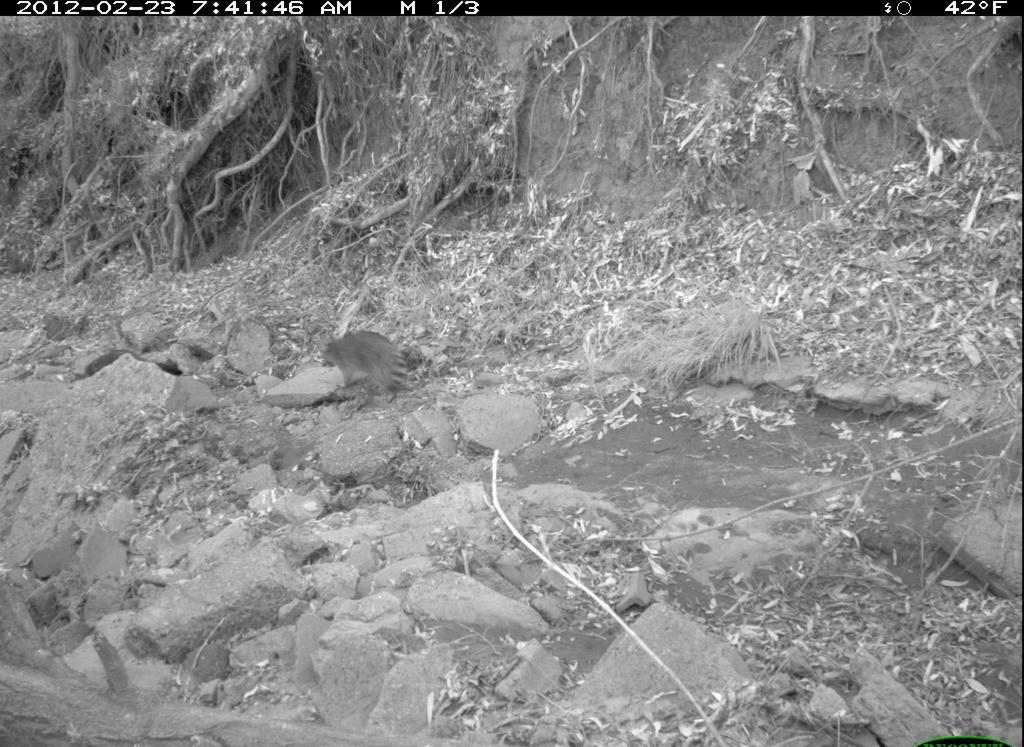raccoon: (310, 315, 428, 400)
